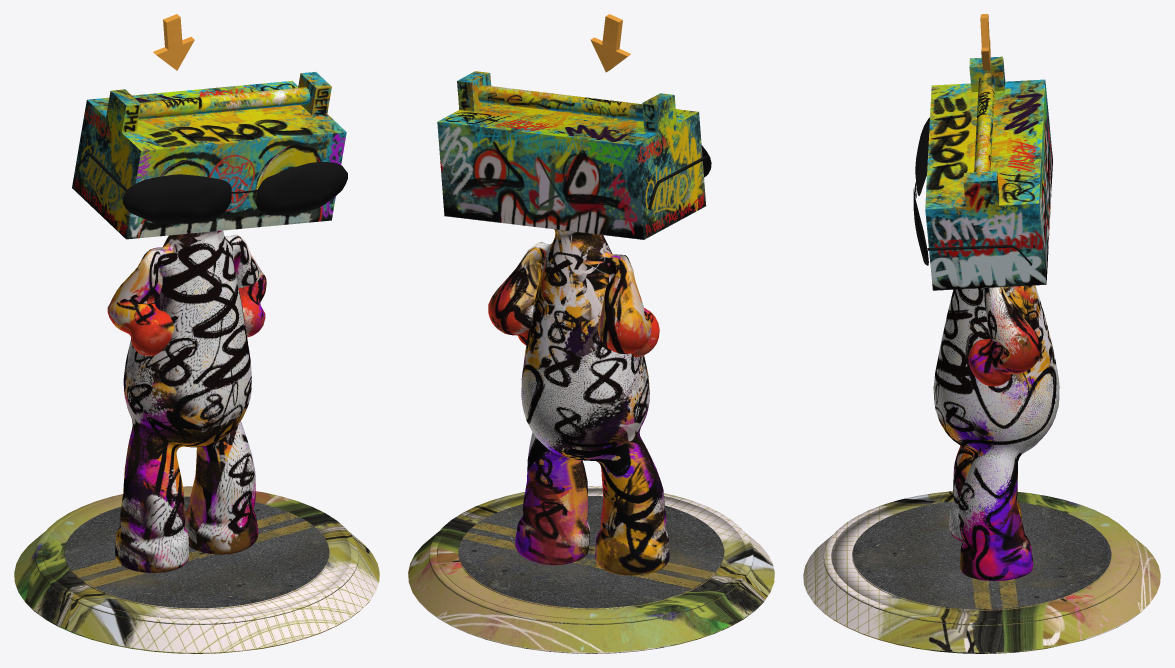
3 views of the same model, side by side, from view 1: azimuth 30°, elevation 25°; view 2: azimuth 150°, elevation 25°; view 3: azimuth 270°, elevation 25° (orthographic). The views are drawn at different scales.
Parts seen in each view (by area): view 1: BBody; view 2: BBody; view 3: BBody.
Part boxes in pixels (bbox=[...]): BBody: bbox=[14, 14, 379, 653]; BBody: bbox=[408, 14, 774, 653]; BBody: bbox=[803, 14, 1160, 653].
Size of the model in its own units: 1.45 by 2.47 by 1.45.
Materials: 6 (5 with a texture image).
